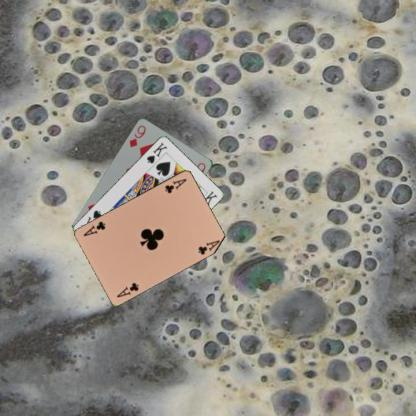9d: (126, 122, 148, 148)
Ac: (162, 176, 188, 194), (114, 280, 140, 298)
Ks: (144, 140, 169, 164)
